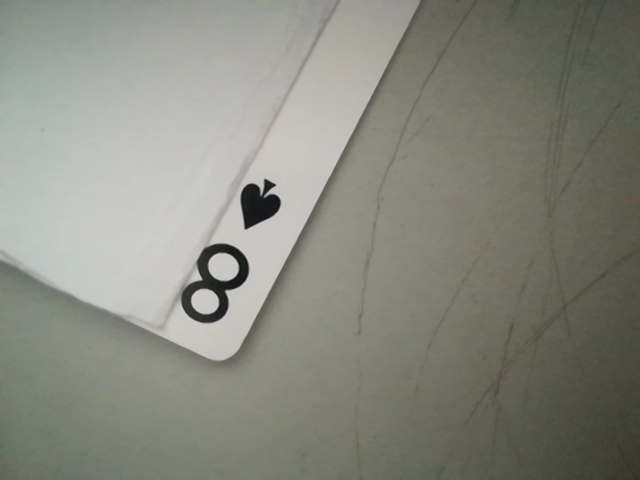ht 8: (161, 170, 292, 350)
